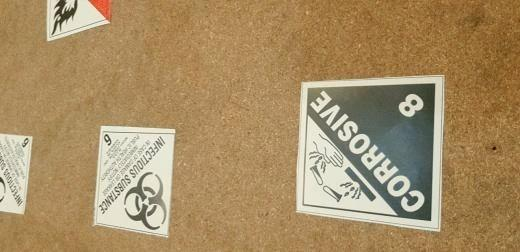corrosive: (295, 74, 448, 233)
infectious-substance: (91, 125, 175, 239), (1, 134, 33, 216)
spontaneously-combustible: (47, 1, 112, 44)
